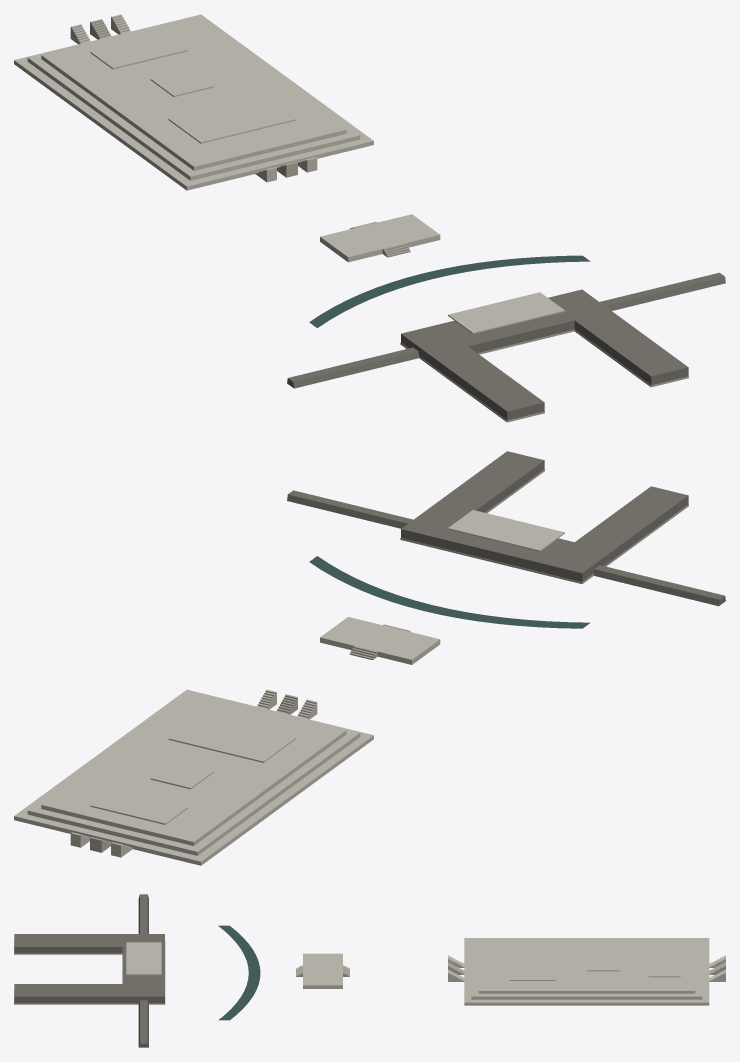
The model's file is forbidden-city-b30.glb.
3 renders of one model, top to bottom at view 1: azimuth 30°, elevation 25°; view 2: azimuth 150°, elevation 25°; view 3: azimuth 270°, elevation 25°, orthographic. The views are drawn at different scales.
Parts seen in each view (by area): view 1: forbidden-city-b30; view 2: forbidden-city-b30; view 3: forbidden-city-b30.
Boxes of the visible parts, x1,y1,x2,y2 form: forbidden-city-b30: (14, 14, 725, 422); forbidden-city-b30: (14, 451, 725, 865); forbidden-city-b30: (14, 894, 725, 1047).
Size of the model in its own units: 300 by 13.79 by 604.
